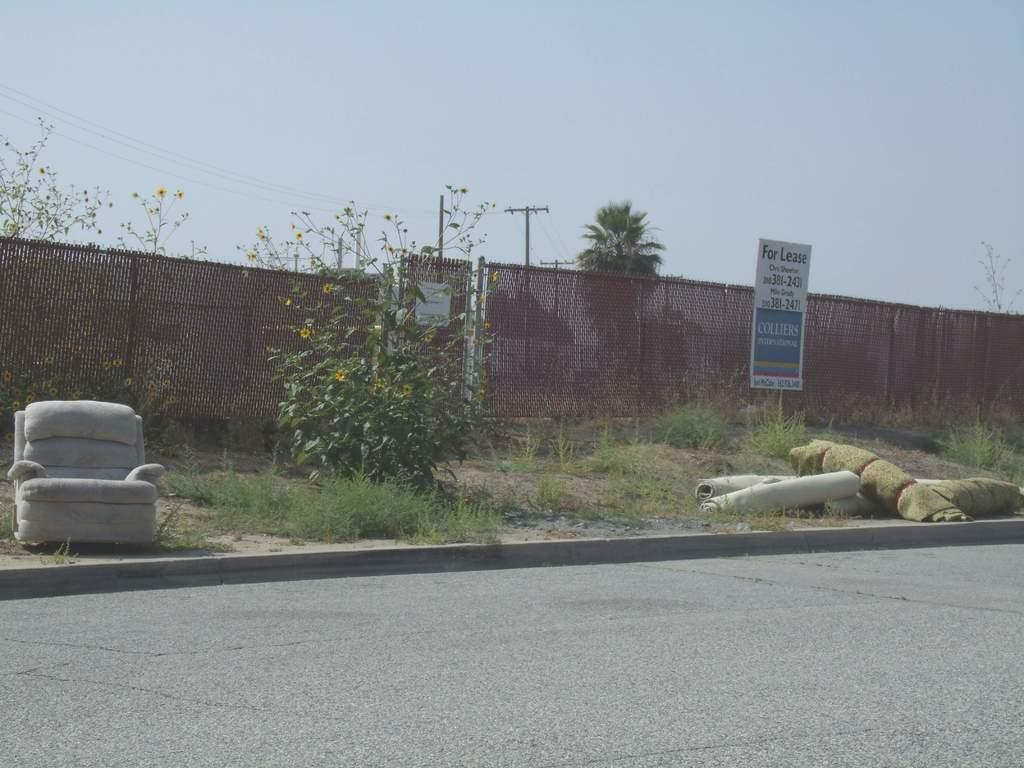Chair: (8, 388, 175, 565)
